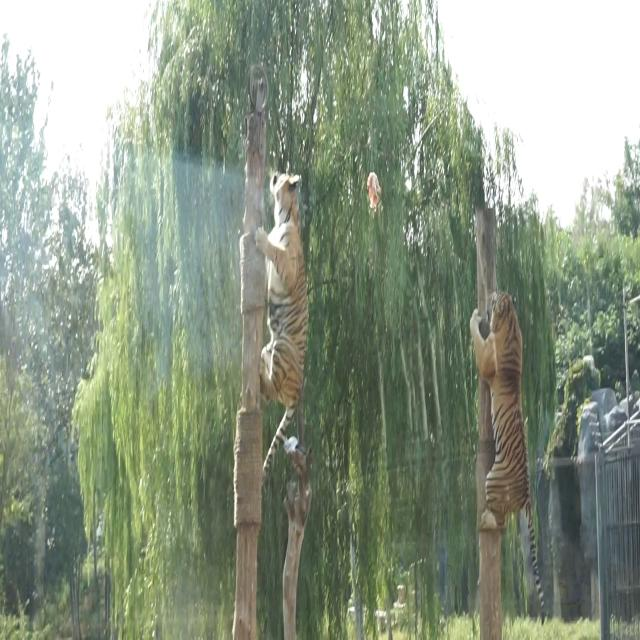Tiger: (252, 160, 319, 503), (469, 288, 547, 572)
